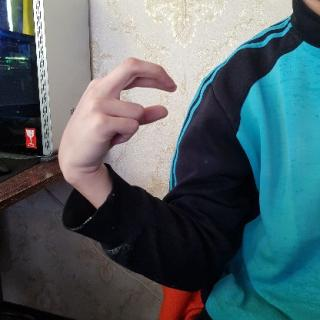DHELL: (55, 50, 180, 194)
